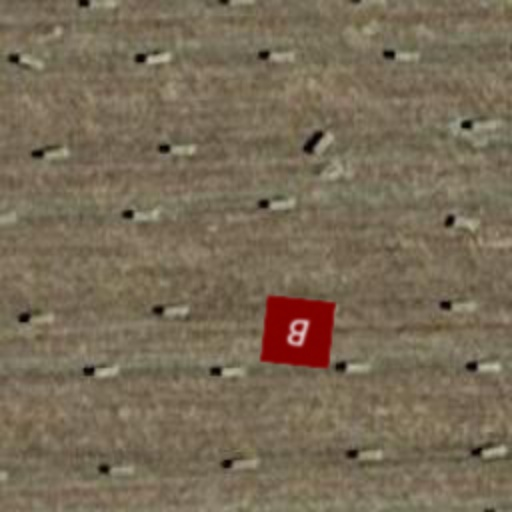rectangle: (258, 292, 338, 372)
